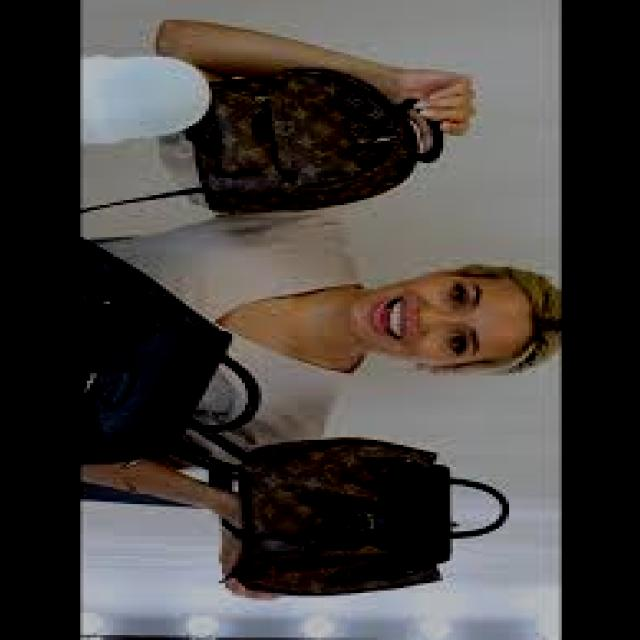backpack: (219, 436, 513, 596), (80, 239, 262, 476), (186, 68, 446, 216)
